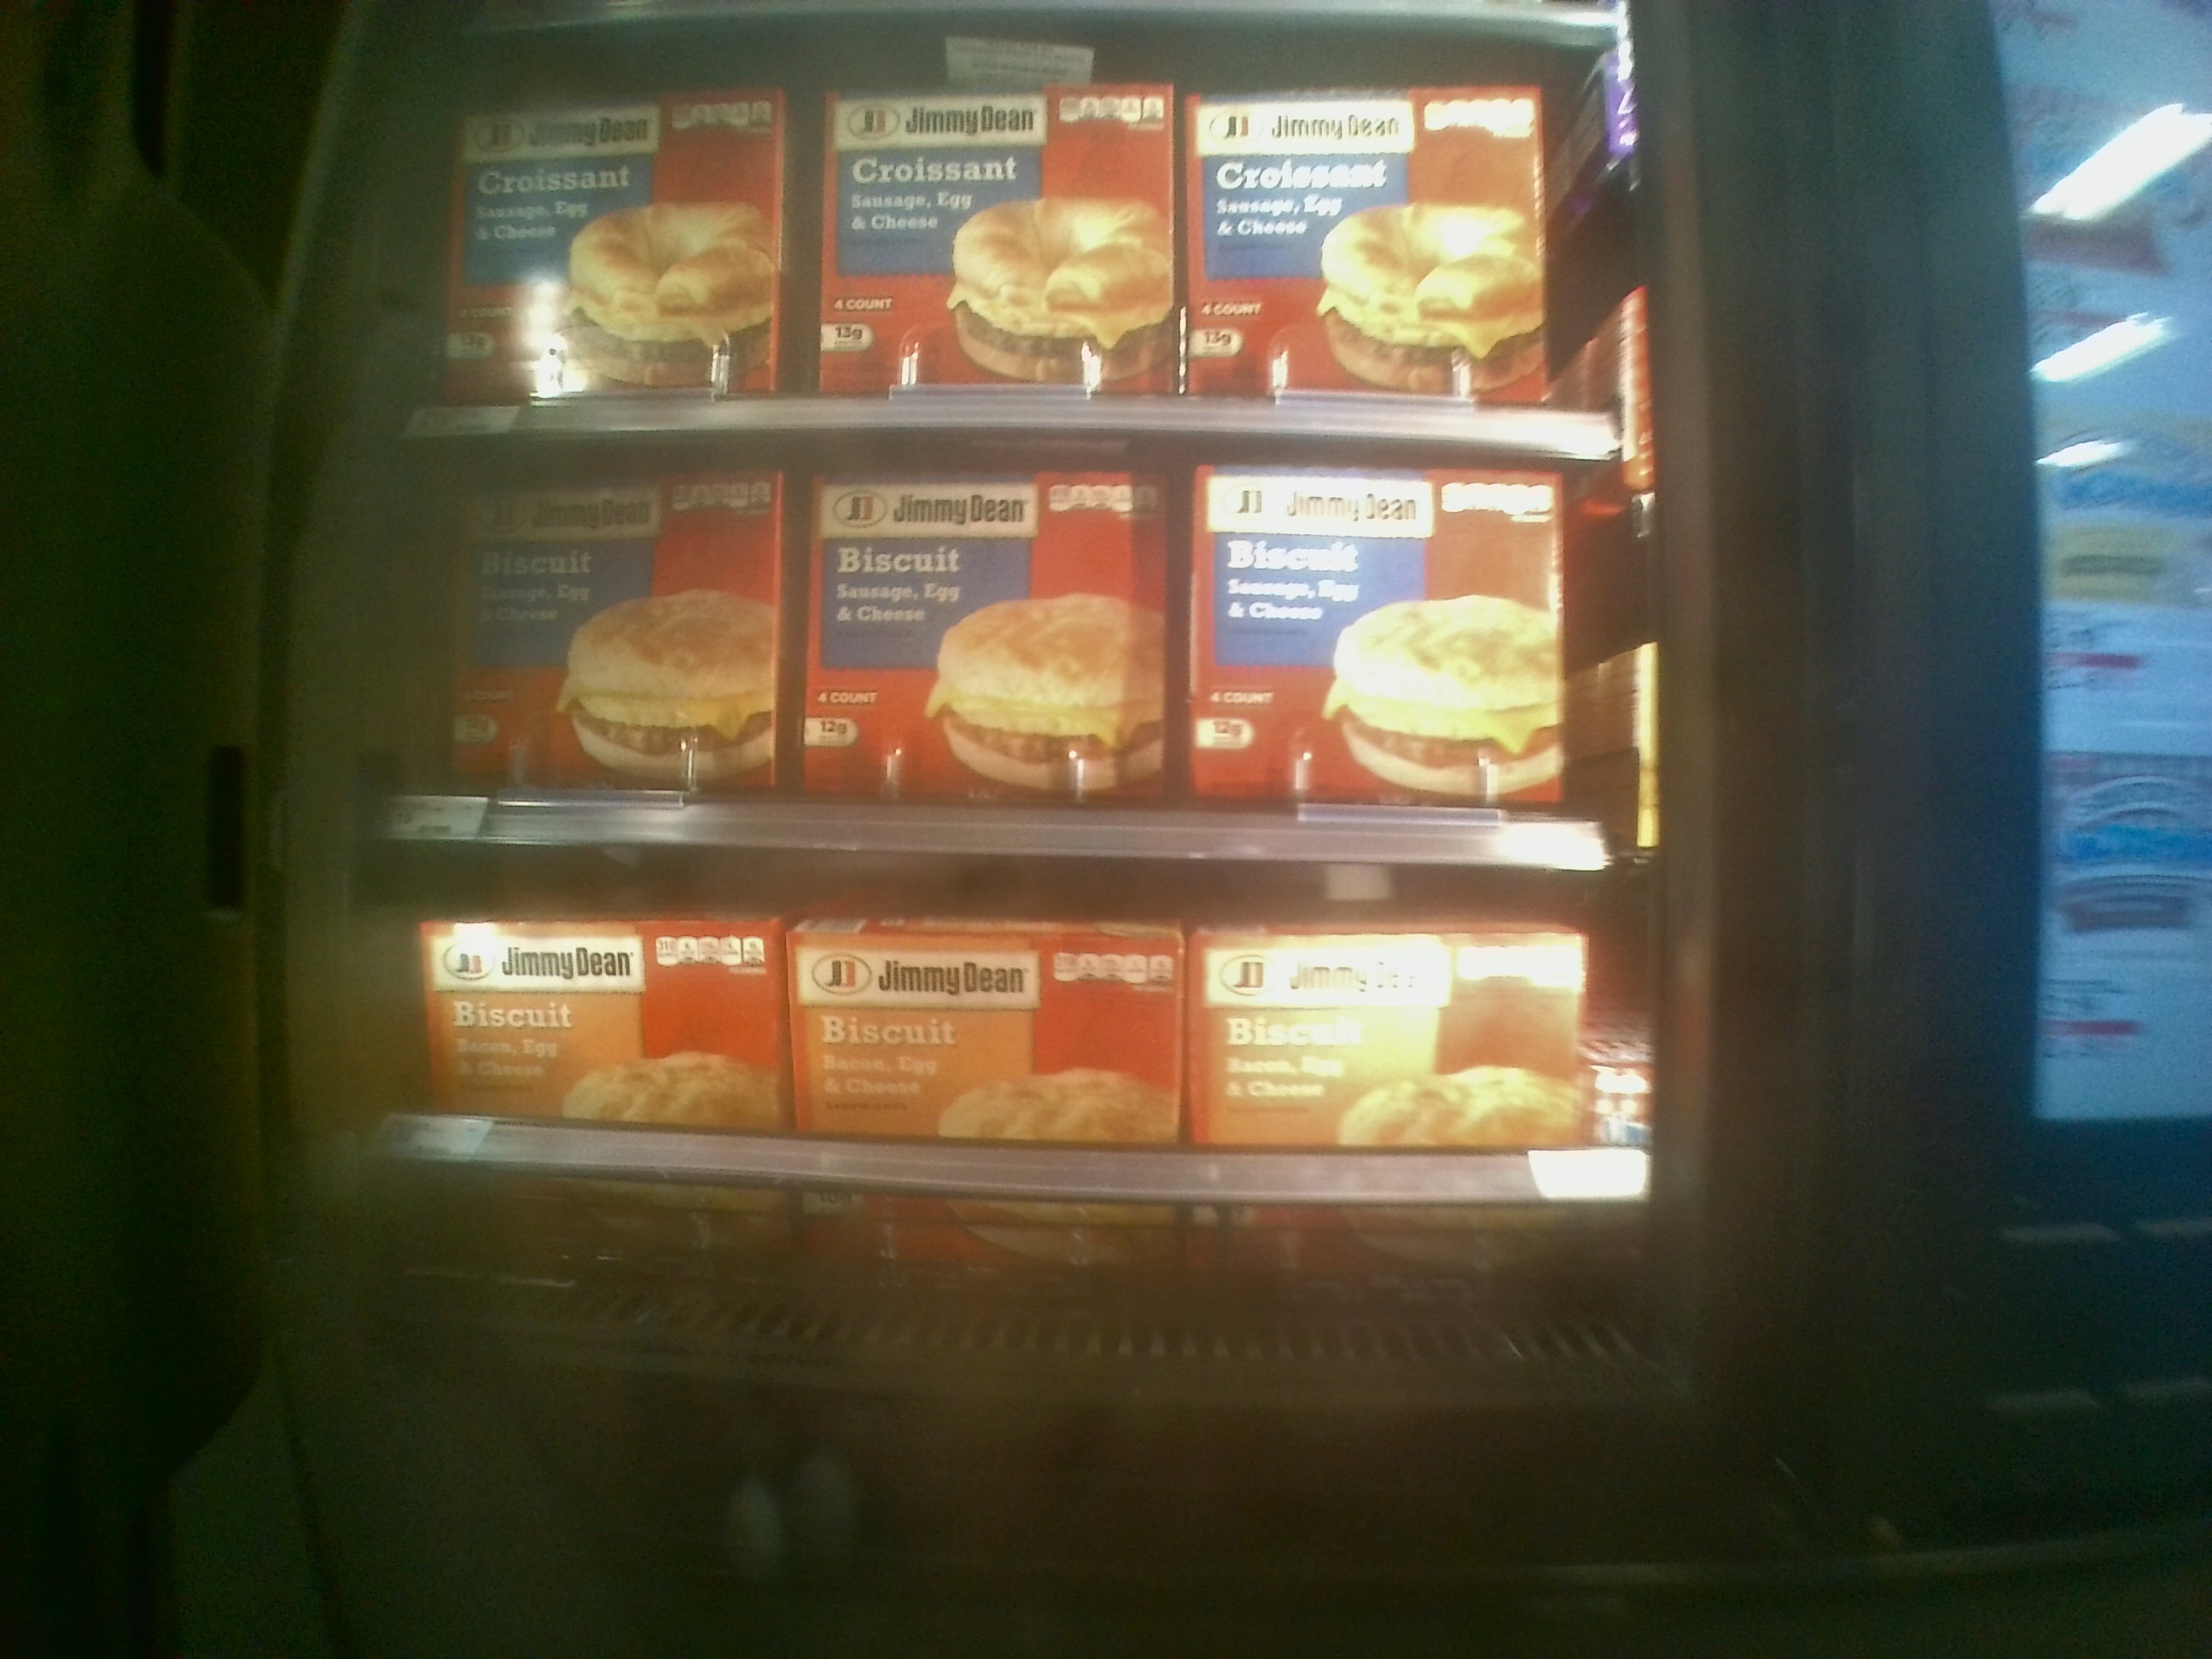shelf: (371, 425, 1623, 863)
